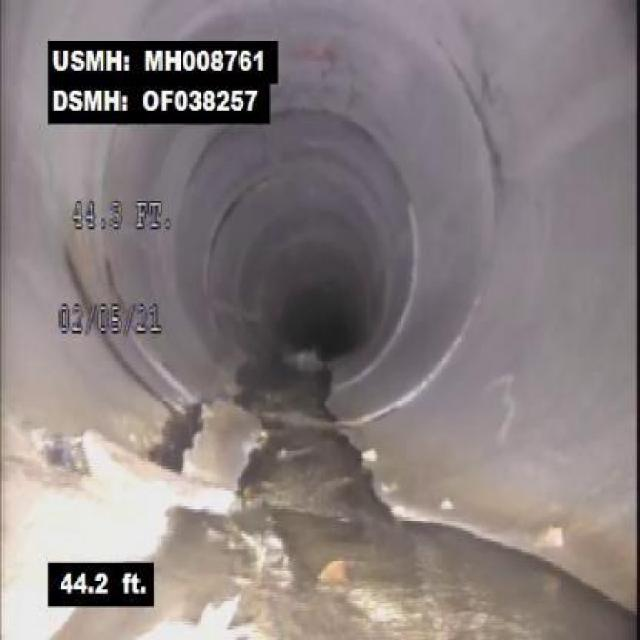Hole: (40, 360, 312, 522)
